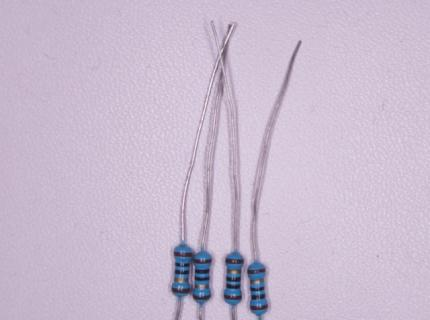Black band: (250, 286, 265, 293), (174, 269, 190, 275), (226, 283, 240, 289), (252, 294, 266, 300), (226, 277, 241, 282), (195, 276, 210, 281), (195, 269, 210, 274), (175, 262, 190, 267)
Brown band: (171, 287, 191, 294), (225, 258, 244, 265), (247, 268, 266, 275), (224, 293, 242, 300), (250, 304, 268, 311), (173, 251, 193, 257), (193, 258, 212, 264), (192, 295, 211, 300)
Gold band: (194, 283, 209, 289), (227, 268, 242, 274), (250, 278, 265, 284), (174, 278, 189, 283)
